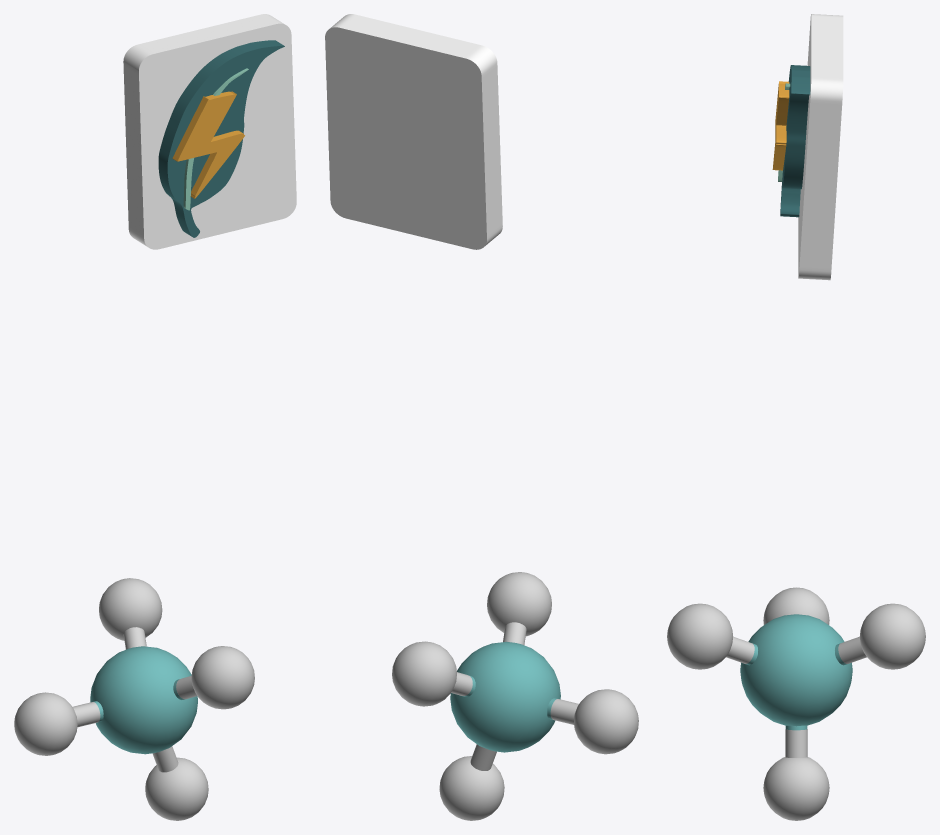
The picture shows the model from 3 angles, left to right: view 1: azimuth 30°, elevation 25°; view 2: azimuth 150°, elevation 25°; view 3: azimuth 270°, elevation 25°; orthographic projection. The views are drawn at different scales.
Visible parts, largest first — view 1: path182, ch4_tetrahed, path184, path188, path186; view 2: path182, ch4_tetrahed; view 3: ch4_tetrahed, path182, path184, path188.
Part boxes in pixels (bbox=[...]): path182: bbox=[123, 14, 296, 249]; ch4_tetrahed: bbox=[14, 578, 254, 820]; path184: bbox=[158, 40, 284, 237]; path188: bbox=[172, 91, 244, 198]; path186: bbox=[183, 68, 248, 210]; path182: bbox=[325, 14, 502, 249]; ch4_tetrahed: bbox=[392, 572, 638, 820]; ch4_tetrahed: bbox=[667, 587, 925, 820]; path182: bbox=[798, 14, 843, 280]; path184: bbox=[780, 65, 810, 217]; path188: bbox=[772, 81, 789, 170].
Size of the model in its own units: 2.62 by 6.81 by 2.02.
